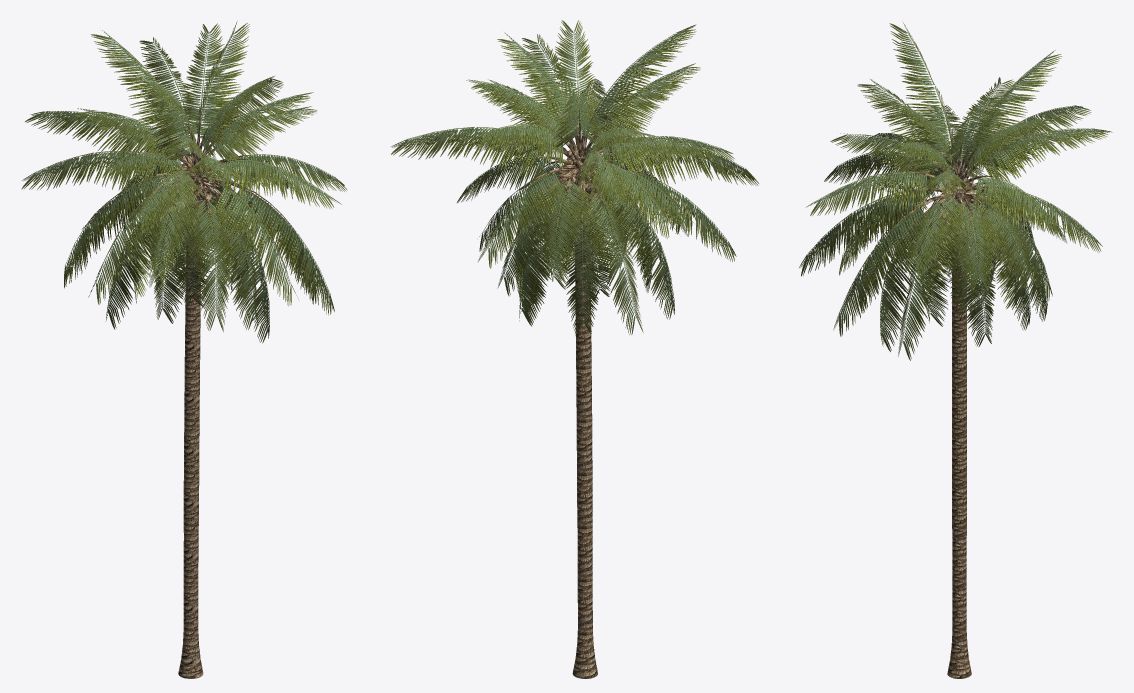
File: Palm_1_1.fbx
3 views of the same model, side by side, from view 1: azimuth 30°, elevation 25°; view 2: azimuth 150°, elevation 25°; view 3: azimuth 270°, elevation 25° (orthographic). The views are drawn at different scales.
Parts seen in each view (by area): view 1: Palm_1_1; view 2: Palm_1_1; view 3: Palm_1_1.
Boxes of the visible parts, box(x1,y1,x2,y2) form: Palm_1_1: box(21, 21, 347, 678); Palm_1_1: box(391, 20, 758, 678); Palm_1_1: box(799, 22, 1112, 678).
Size of the model in its own units: 687 by 1457 by 694.
